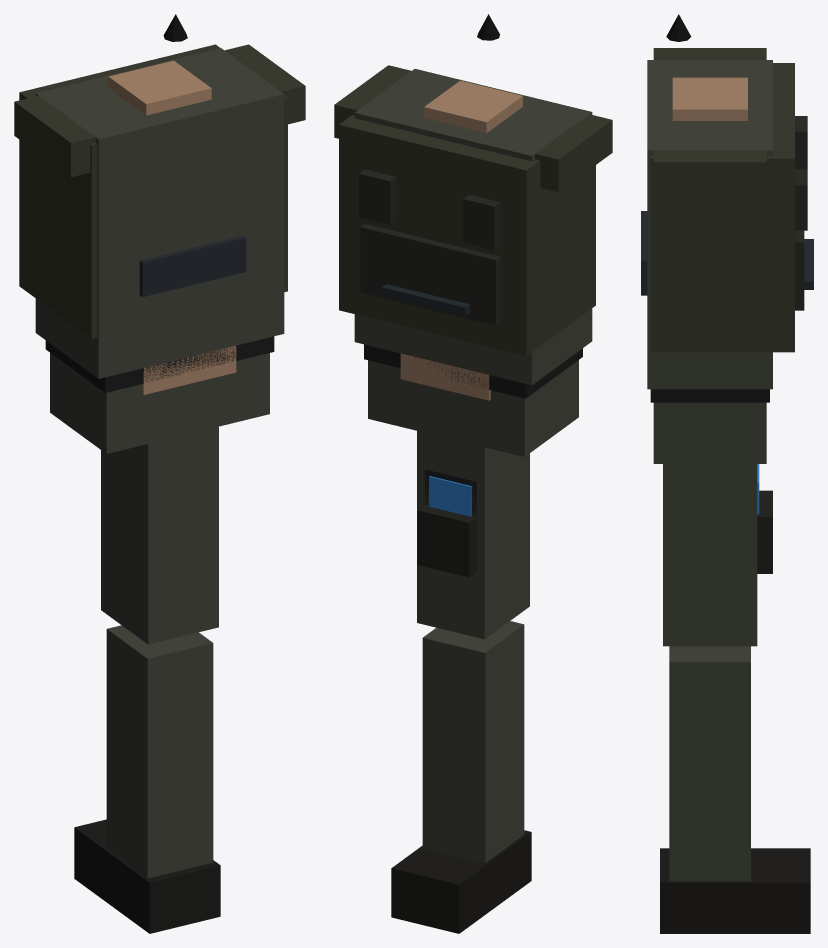
Rendered from operator_iq.glb.
3 views of the same model, side by side, from view 1: azimuth 30°, elevation 25°; view 2: azimuth 150°, elevation 25°; view 3: azimuth 270°, elevation 25° (orthographic). The views are drawn at different scales.
Visible parts, largest first — view 1: torso, legL, hips, head; view 2: torso, legL, hips, head, foreL_glow, foreL; view 3: torso, legL, hips, head.
Part boxes in pixels (x1,y1,x2,y2): torso: (14,14,305,378); legL: (74,426,220,933); hips: (45,336,274,453); head: (139,235,246,394); torso: (334,14,612,385); legL: (391,431,531,933); hips: (364,344,582,456); head: (382,284,490,400); foreL_glow: (429,476,471,516); foreL: (424,469,476,517); torso: (647,14,807,389); legL: (660,464,810,933); hips: (650,389,769,463); head: (641,211,813,295).
Bounding box in the file's own units: 0.43 × 1.58 × 0.275.
